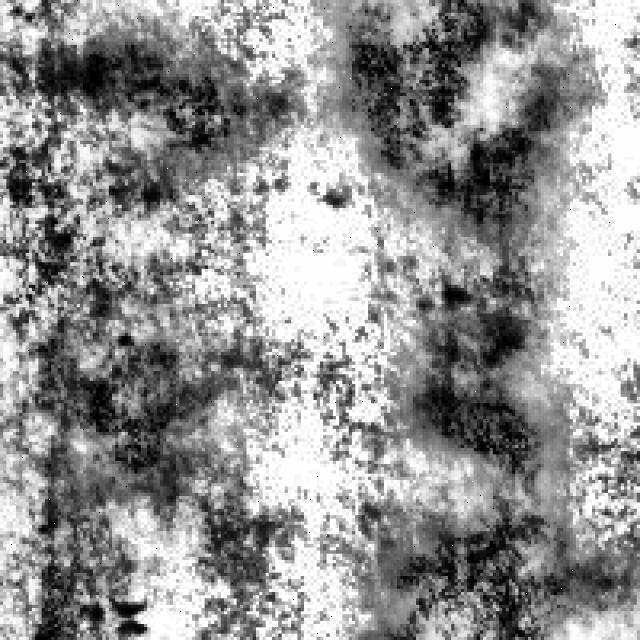Scratches: (336, 0, 576, 240), (374, 474, 612, 636), (413, 278, 557, 516), (61, 28, 288, 166), (44, 320, 198, 502)
